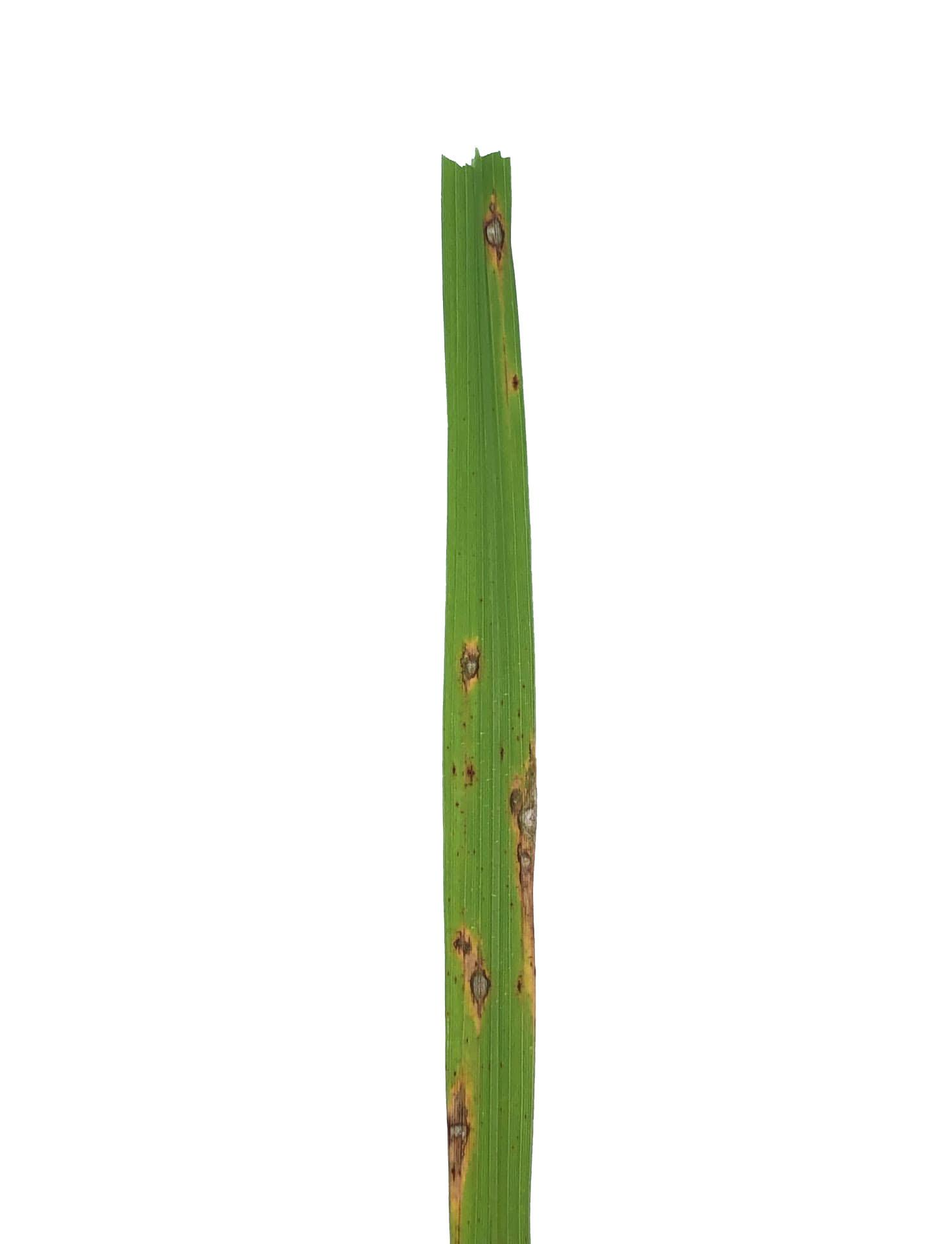Rice blast: (506, 725, 540, 1027), (450, 920, 499, 1047), (440, 1065, 470, 1239), (477, 177, 513, 298), (449, 634, 492, 708)
